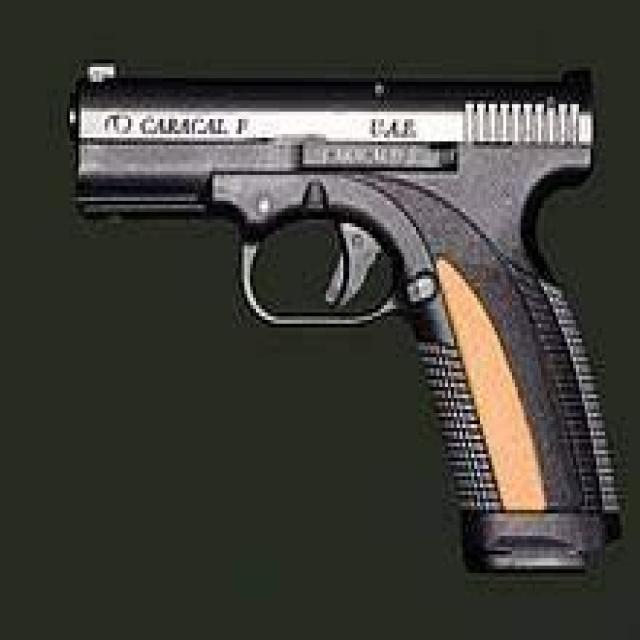Gun: (52, 58, 631, 574)
